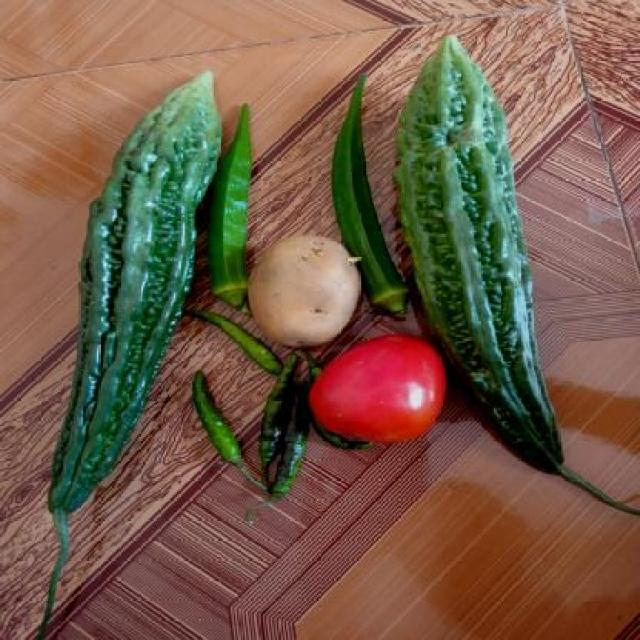Bitter melon: (6, 66, 226, 479), (398, 29, 586, 488)
Green Chili: (184, 370, 256, 496), (246, 358, 303, 512)
Lady finger: (332, 75, 410, 312), (198, 108, 266, 308)
Potato: (245, 226, 363, 349)
Tomato: (310, 338, 444, 449)
